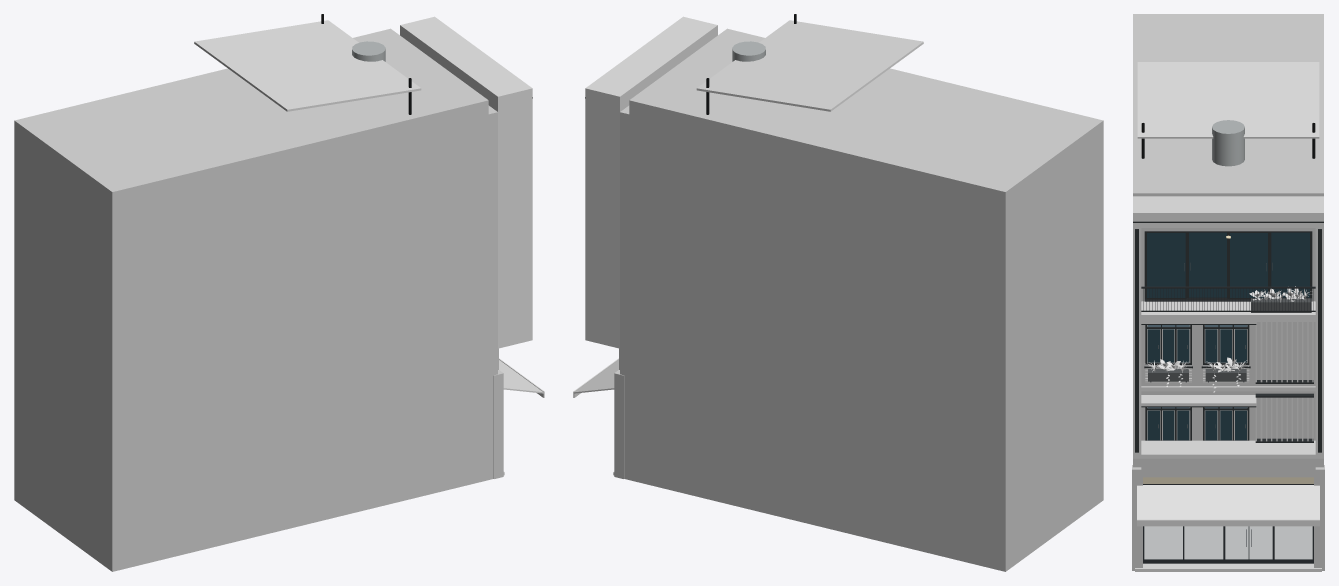
Rendered from OW_Mau_NhaPho_7_0_0_B.fbx.
3 views of the same model, side by side, from view 1: azimuth 30°, elevation 25°; view 2: azimuth 150°, elevation 25°; view 3: azimuth 270°, elevation 25° (orthographic). The views are drawn at different scales.
Visible parts, largest first — view 1: OW_NhaPho_9033; view 2: OW_NhaPho_9033; view 3: OW_NhaPho_9033, OW_MatTienKinh.
Part boxes in pixels (x1,y1,x2,y2): OW_NhaPho_9033: (14,14,544,571); OW_NhaPho_9033: (573,14,1103,571); OW_NhaPho_9033: (1132,14,1324,571); OW_MatTienKinh: (1143,477,1313,563).
Size of the model in its own units: 17.77 by 16.31 by 7.
